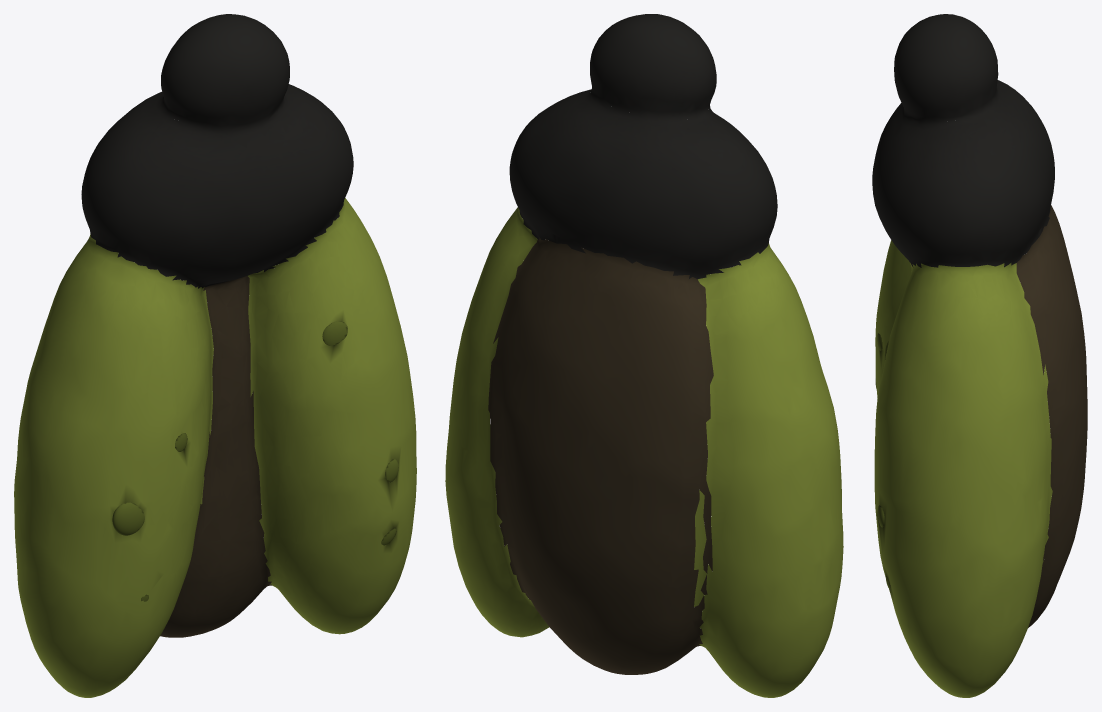
File: motet-ar-installt.glb
The picture shows the model from 3 angles, left to right: view 1: azimuth 30°, elevation 25°; view 2: azimuth 150°, elevation 25°; view 3: azimuth 270°, elevation 25°; orthographic projection. The views are drawn at different scales.
Parts seen in each view (by area): view 1: besouro__r0, besouro__r6; view 2: besouro__r0; view 3: besouro__r0.
Boxes of the visible parts, left/top/right/bottom form: besouro__r0: left=14, top=14, right=416, bottom=697; besouro__r6: left=112, top=502, right=144, bottom=535; besouro__r0: left=445, top=14, right=843, bottom=697; besouro__r0: left=872, top=14, right=1087, bottom=697.
Size of the model in its own units: 0.7052 by 1.15 by 0.3645.
